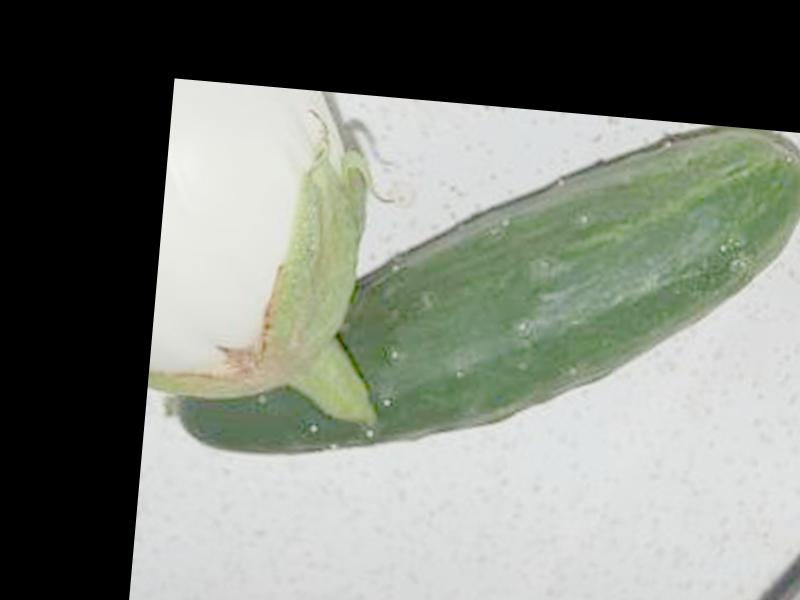Cucumber: (160, 79, 800, 497)
